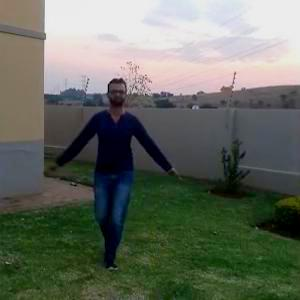land: (61, 84, 164, 263)
